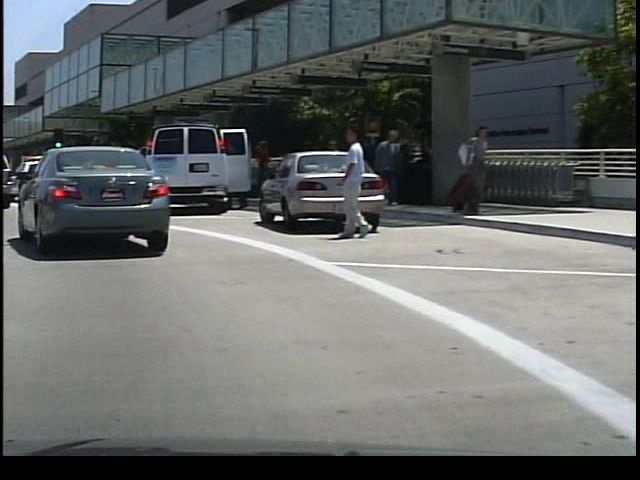person: (329, 121, 370, 241), (450, 121, 486, 215), (373, 125, 405, 210), (248, 136, 272, 202)
